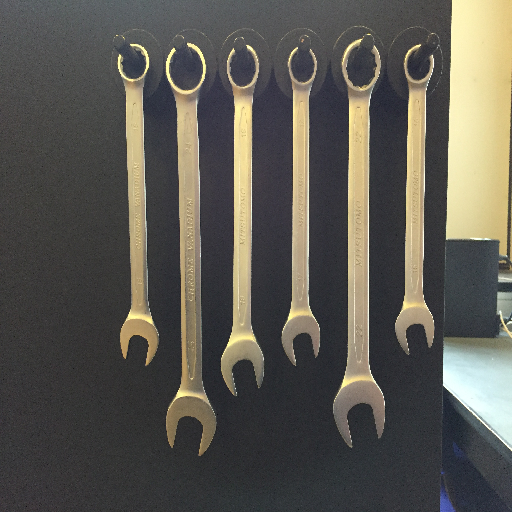bottom: (326, 378, 390, 452), (162, 394, 222, 455), (216, 338, 269, 398), (389, 305, 438, 362), (281, 311, 324, 370), (116, 317, 165, 367)
top: (163, 42, 210, 97), (340, 37, 383, 93), (224, 42, 263, 90), (401, 41, 439, 87), (115, 40, 153, 84), (285, 45, 321, 88)
